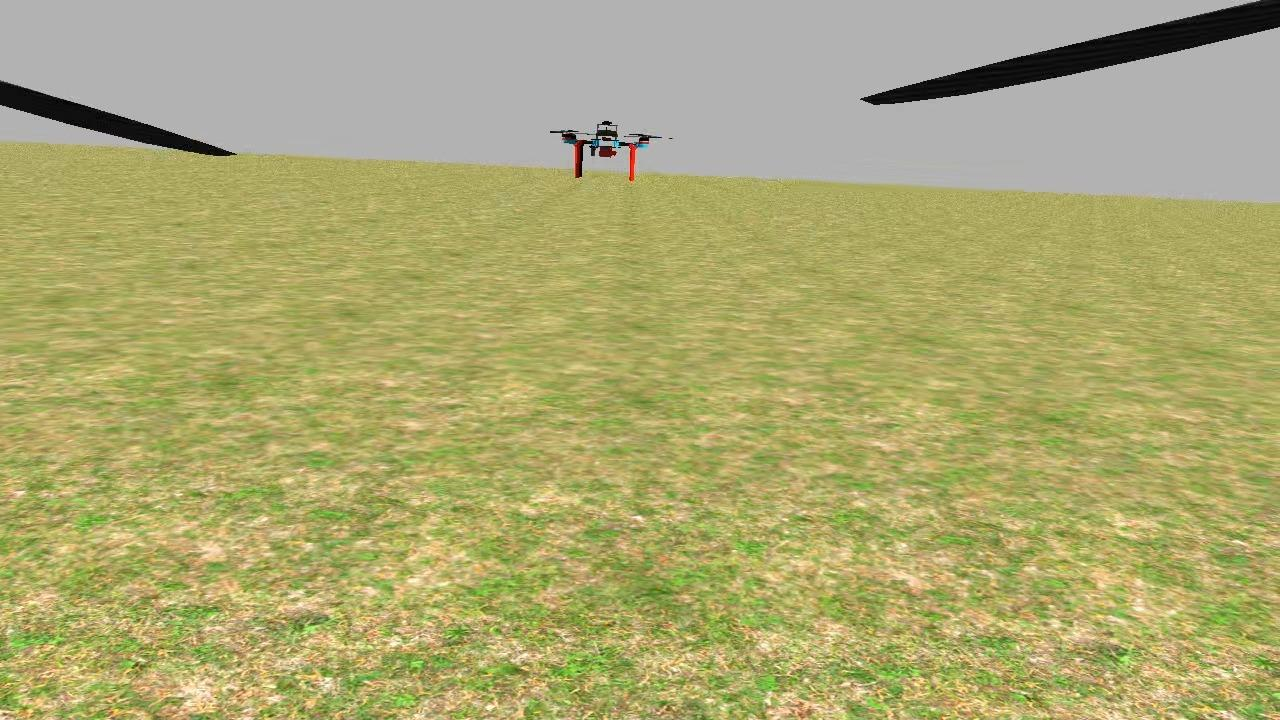UAV: (546, 109, 668, 180)
